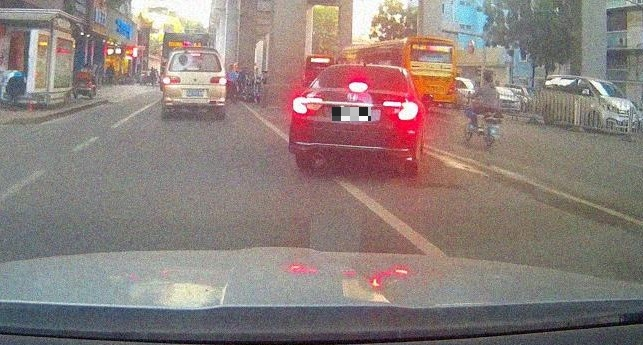L_light: (293, 96, 323, 114), (163, 76, 181, 84)
R_light: (383, 100, 418, 120), (210, 76, 226, 84)
T_light: (348, 82, 368, 93), (190, 54, 200, 57)
day-brake: (162, 46, 226, 120)
day-right: (289, 64, 419, 176)
plate_1: (332, 107, 371, 121)
